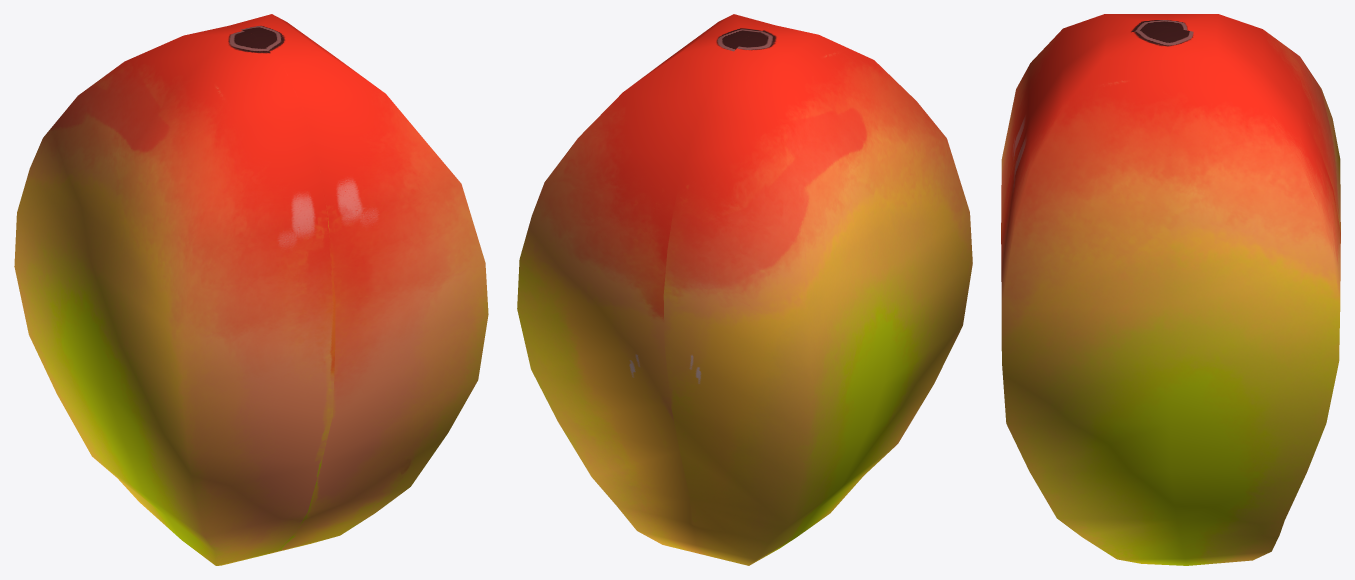
Rendered from mango.fbx.
3 renders of one model, left to right at view 1: azimuth 30°, elevation 25°; view 2: azimuth 150°, elevation 25°; view 3: azimuth 270°, elevation 25°, orthographic. The views are drawn at different scales.
Parts seen in each view (by area): view 1: Cube; view 2: Cube; view 3: Cube.
Boxes of the visible parts, x1,y1,x2,y2 form: Cube: (14, 14, 488, 565); Cube: (517, 14, 972, 565); Cube: (1001, 14, 1340, 565).
Size of the model in its own units: 17.21 by 27.96 by 16.38.
Materials: 1 (1 with a texture image).
